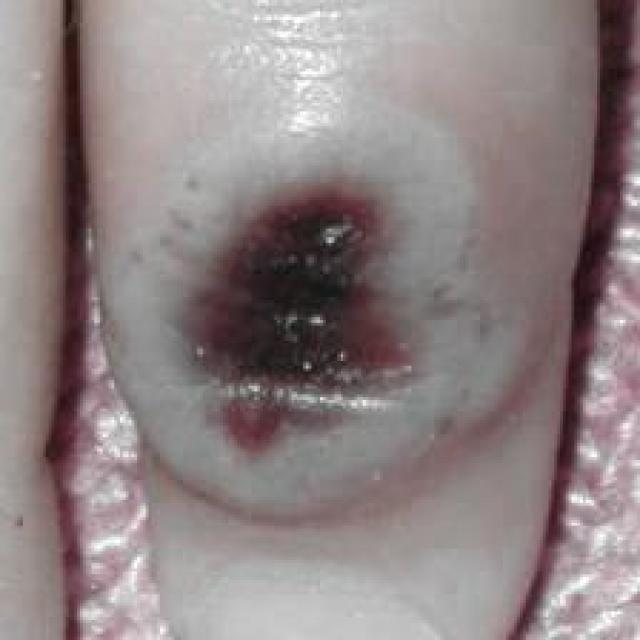monkeypox: (89, 22, 583, 596)
